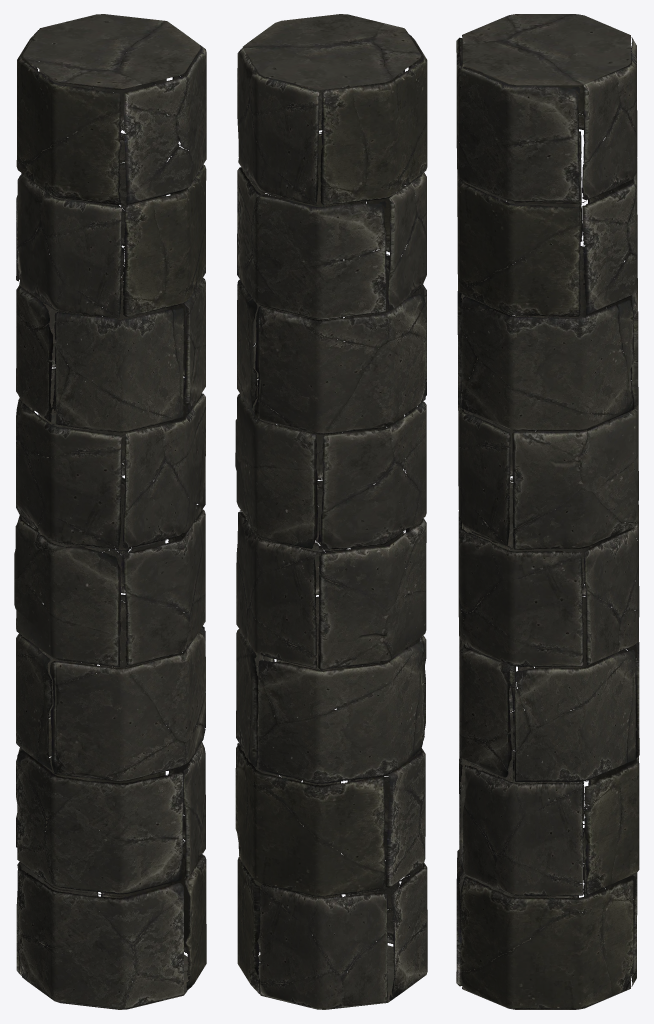
3 views of the same model, side by side, from view 1: azimuth 30°, elevation 25°; view 2: azimuth 150°, elevation 25°; view 3: azimuth 270°, elevation 25° (orthographic).
Parts seen in each view (by area): view 1: SM_BB_T3_Extended_Beam_Thick_Large_Vertical_02_LOD0; view 2: SM_BB_T3_Extended_Beam_Thick_Large_Vertical_02_LOD0; view 3: SM_BB_T3_Extended_Beam_Thick_Large_Vertical_02_LOD0.
Part boxes in pixels (x1=…): SM_BB_T3_Extended_Beam_Thick_Large_Vertical_02_LOD0: x1=14, y1=14, x2=206, y2=1009; SM_BB_T3_Extended_Beam_Thick_Large_Vertical_02_LOD0: x1=235, y1=14, x2=427, y2=1009; SM_BB_T3_Extended_Beam_Thick_Large_Vertical_02_LOD0: x1=456, y1=14, x2=639, y2=1009.
Bounding box in the file's own units: 0.5391 × 3.01 × 0.54.
1 material, 1 textured.
